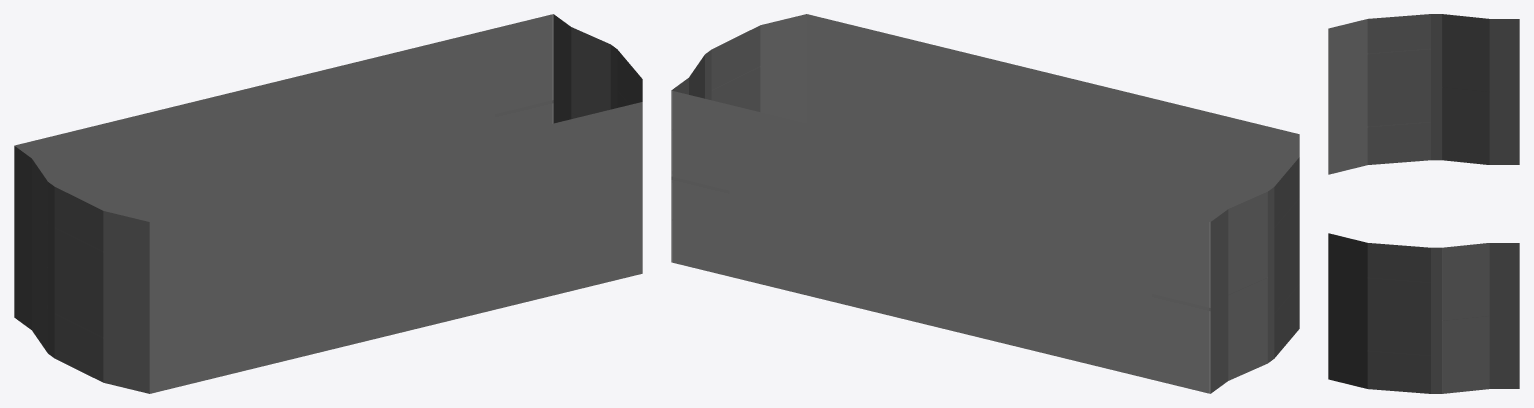
The picture shows the model from 3 angles, left to right: view 1: azimuth 30°, elevation 25°; view 2: azimuth 150°, elevation 25°; view 3: azimuth 270°, elevation 25°; orthographic projection. The views are drawn at different scales.
Parts seen in each view (by area): view 1: group_13; view 2: group_13; view 3: group_13.
Boxes of the visible parts, x1,y1,x2,y2 form: group_13: (14,14,642,393); group_13: (671,14,1299,393); group_13: (1328,14,1519,393).
Size of the model in its own units: 14034 by 4096 by 4849.
1 material, 1 textured.
